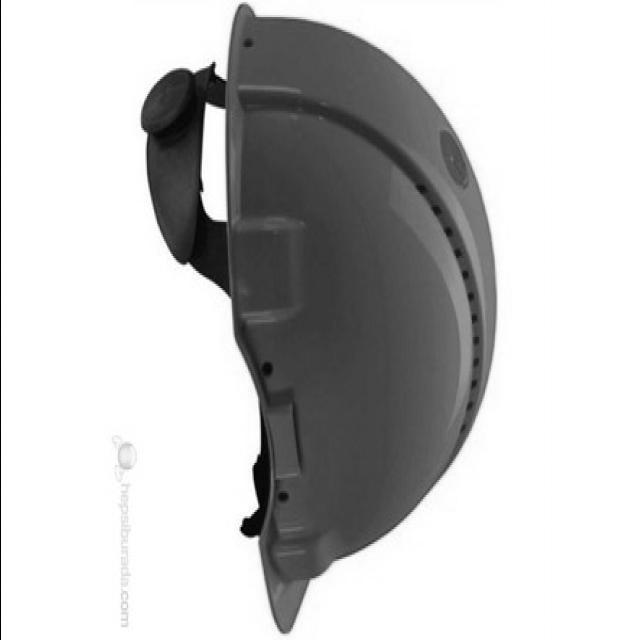safety_helmet: (137, 2, 496, 636)
